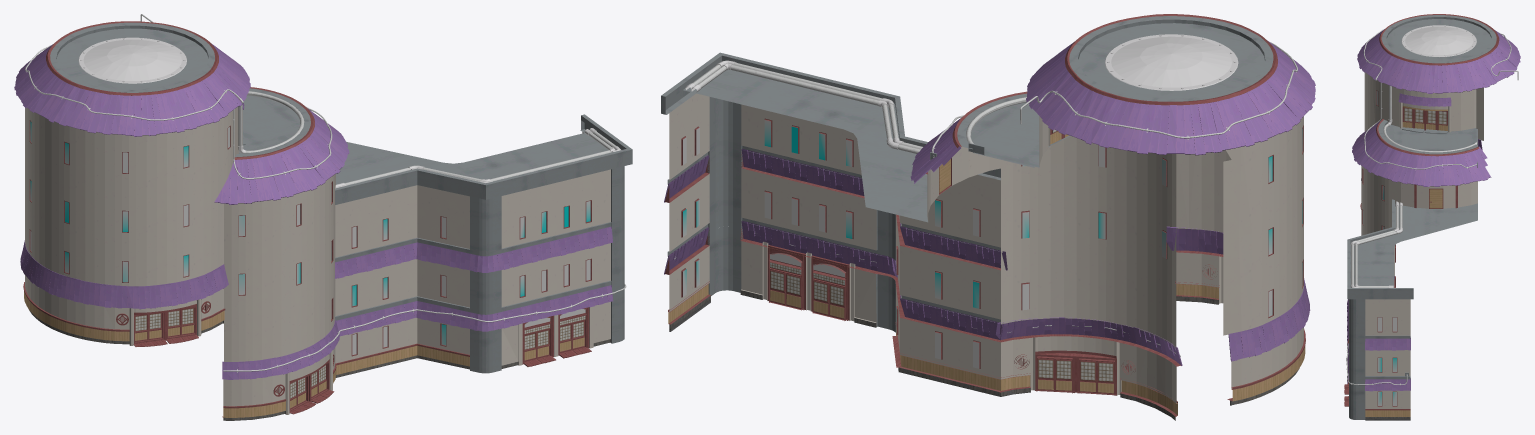
Rendered from SM_ENV_KNVLLG_AreaF_Building_A_Part03.fbx.
The picture shows the model from 3 angles, left to right: view 1: azimuth 30°, elevation 25°; view 2: azimuth 150°, elevation 25°; view 3: azimuth 270°, elevation 25°; orthographic projection. The views are drawn at different scales.
Parts seen in each view (by area): view 1: SM_ENV_KNVLLG_AreaF_Building_A_Part03.mo; view 2: SM_ENV_KNVLLG_AreaF_Building_A_Part03.mo; view 3: SM_ENV_KNVLLG_AreaF_Building_A_Part03.mo.
Part boxes in pixels (x1,y1,x2,y2): SM_ENV_KNVLLG_AreaF_Building_A_Part03.mo: (14,14,632,420); SM_ENV_KNVLLG_AreaF_Building_A_Part03.mo: (661,14,1315,420); SM_ENV_KNVLLG_AreaF_Building_A_Part03.mo: (1344,14,1520,420).
Size of the model in its own units: 11748 by 7238 by 4825.
